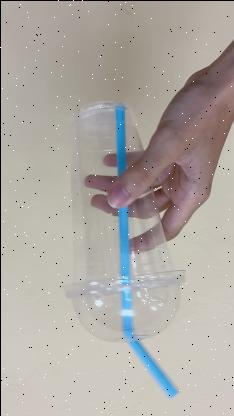Others: (61, 102, 187, 372)
